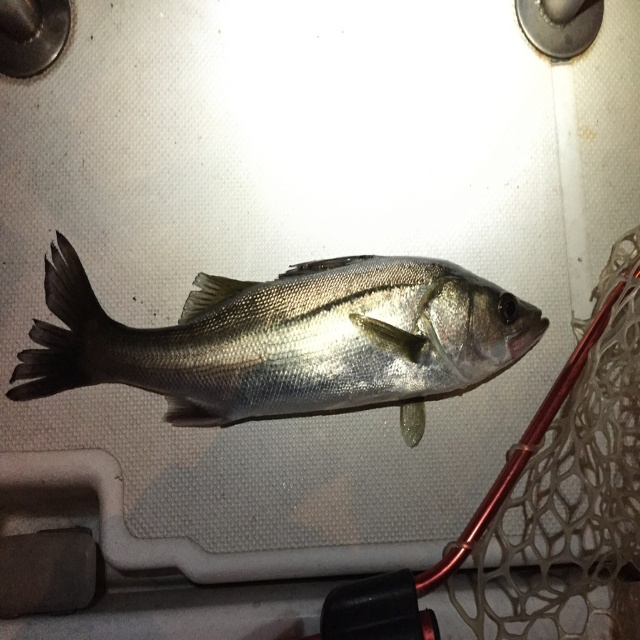Fish: (0, 238, 558, 460)
